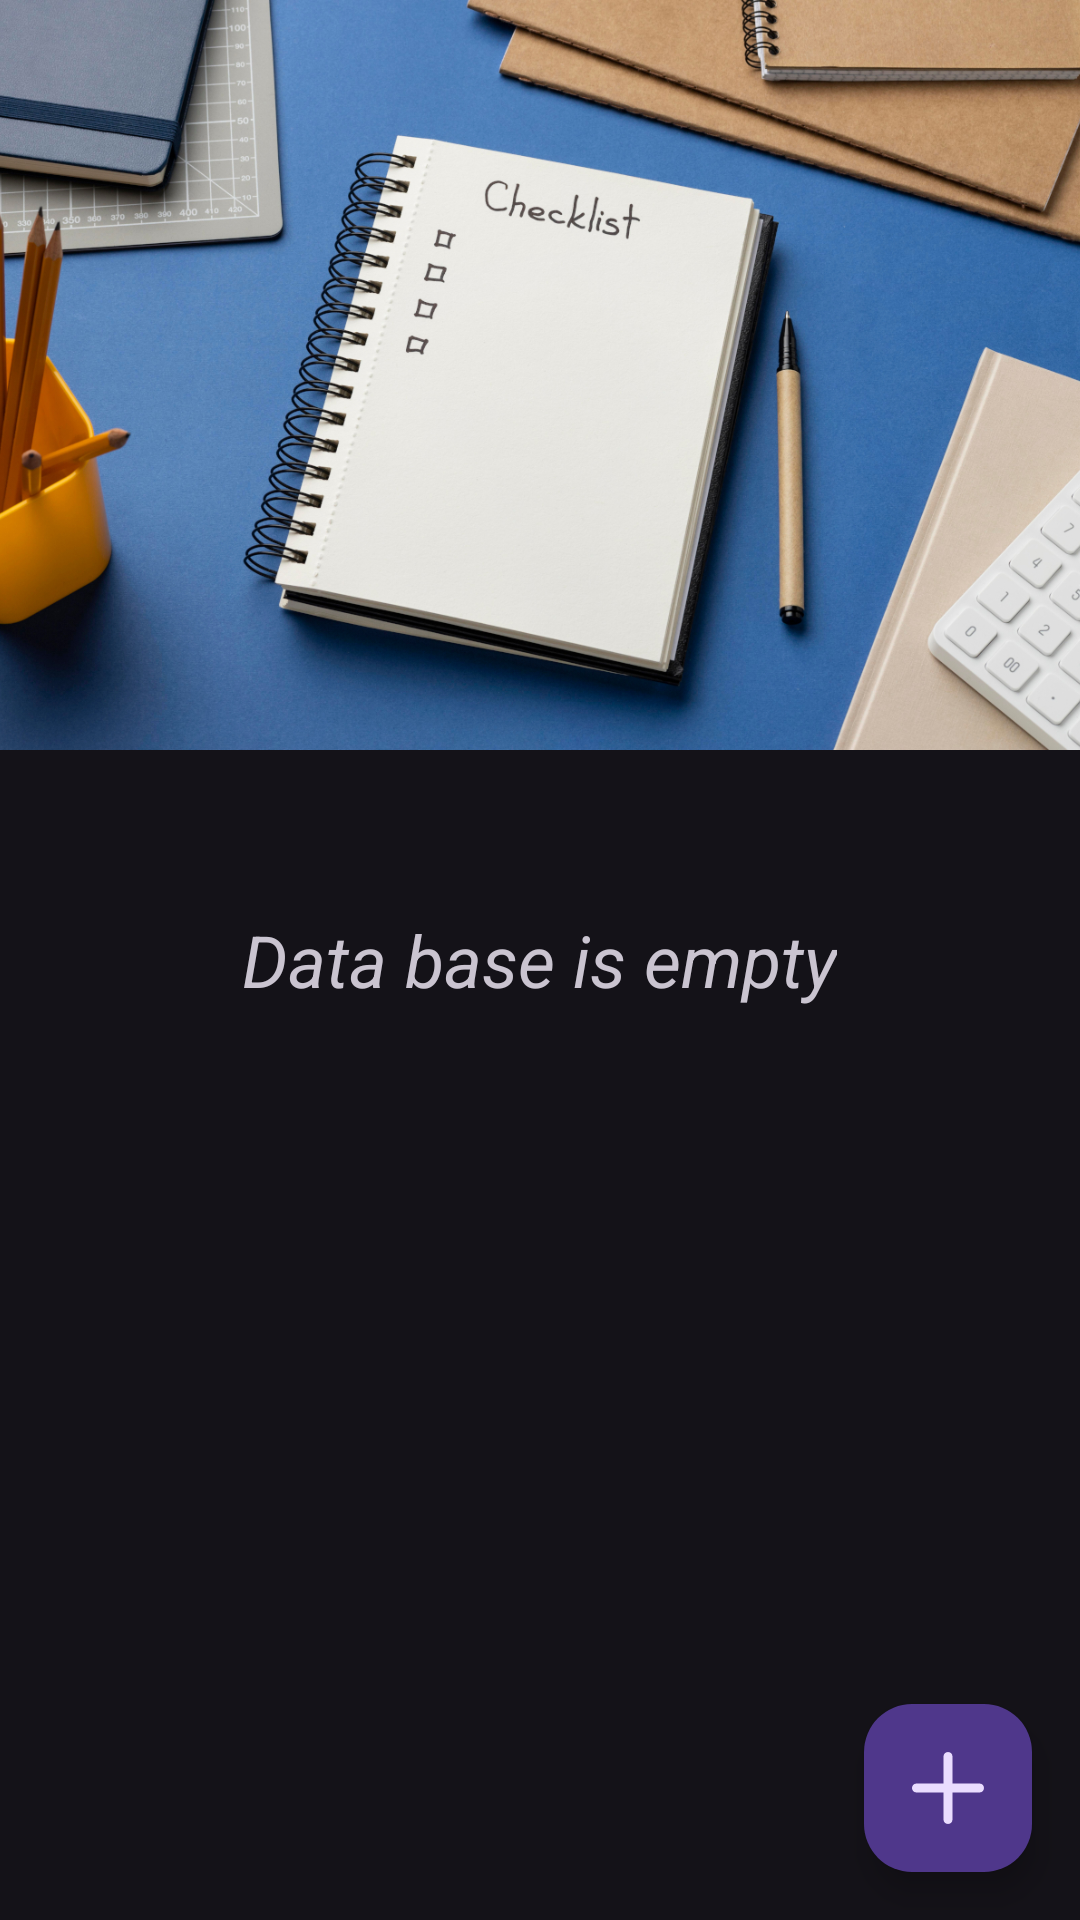

Screen size 1080 × 1920. Icon name, then its center in pixels as (x,y):
Floating Action Button: (948,1788)
